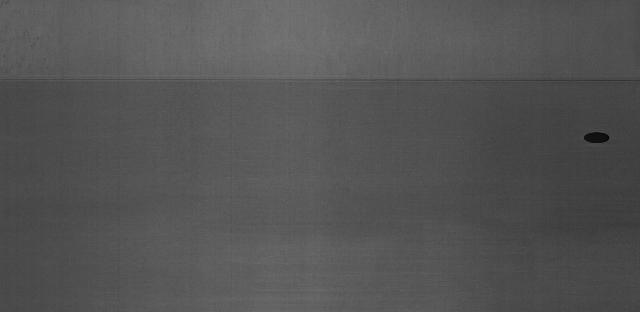punching_hole: (580, 129, 613, 148)
welding_line: (3, 67, 638, 92)
